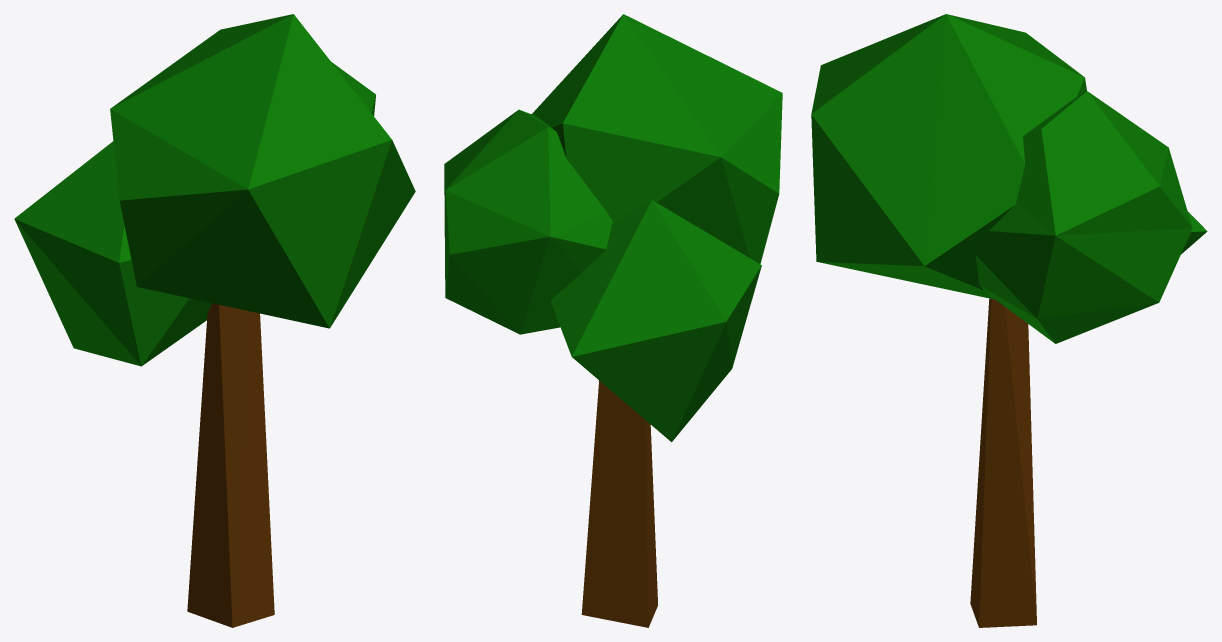
File: environmentmodel1.fbx
3 views of the same model, side by side, from view 1: azimuth 30°, elevation 25°; view 2: azimuth 150°, elevation 25°; view 3: azimuth 270°, elevation 25° (orthographic). The views are drawn at different scales.
Parts seen in each view (by area): view 1: Icosphere.002, Cylinder.001; view 2: Icosphere.002, Cylinder.001; view 3: Icosphere.002, Cylinder.001.
Boxes of the visible parts, x1=… form: Icosphere.002: x1=14, y1=14, x2=415, y2=366; Cylinder.001: x1=187, y1=303, x2=274, y2=627; Icosphere.002: x1=444, y1=14, x2=782, y2=442; Cylinder.001: x1=581, y1=380, x2=657, y2=627; Icosphere.002: x1=811, y1=14, x2=1207, y2=343; Cylinder.001: x1=970, y1=298, x2=1036, y2=627.
Size of the model in its own units: 2.52 by 4.44 by 2.59.
